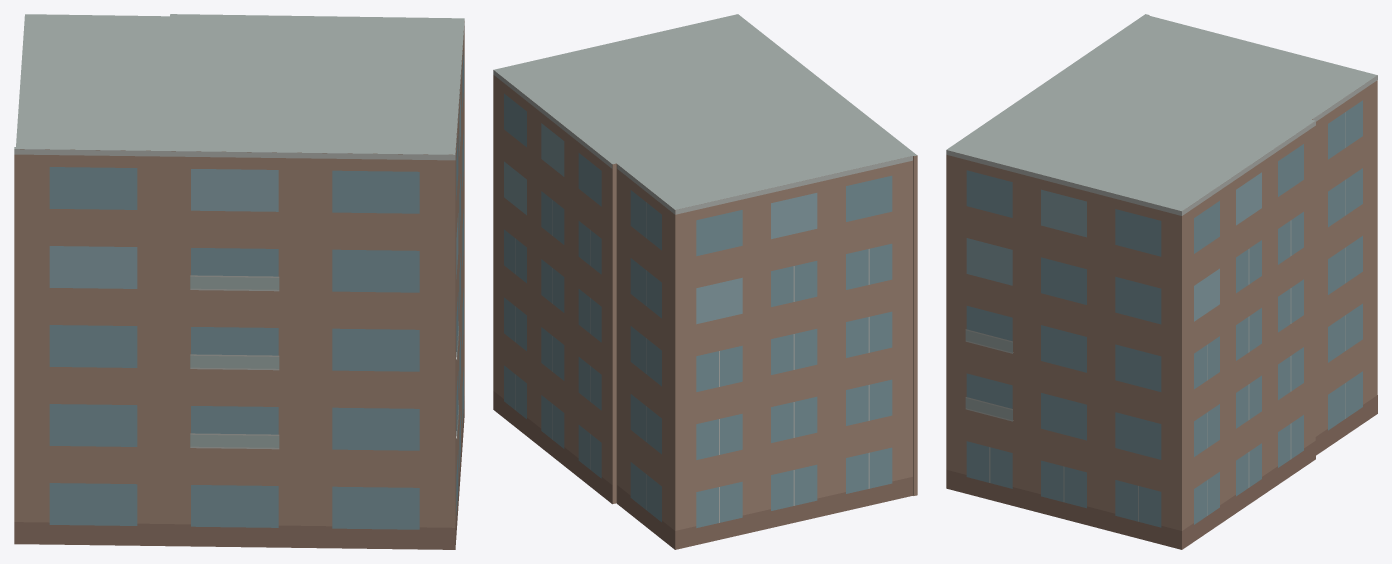
Rendered from survey-upis-32953989.glb.
3 views of the same model, side by side, from view 1: azimuth 30°, elevation 25°; view 2: azimuth 150°, elevation 25°; view 3: azimuth 270°, elevation 25° (orthographic). The views are drawn at different scales.
Visible parts, largest first — view 1: survey-upis-32953989.tmp; view 2: survey-upis-32953989.tmp; view 3: survey-upis-32953989.tmp.
Boxes of the visible parts, x1,y1,x2,y2 form: survey-upis-32953989.tmp: [14, 14, 464, 549]; survey-upis-32953989.tmp: [493, 14, 917, 549]; survey-upis-32953989.tmp: [946, 14, 1377, 549].
Size of the model in its own units: 21.63 by 17.3 by 19.99.
